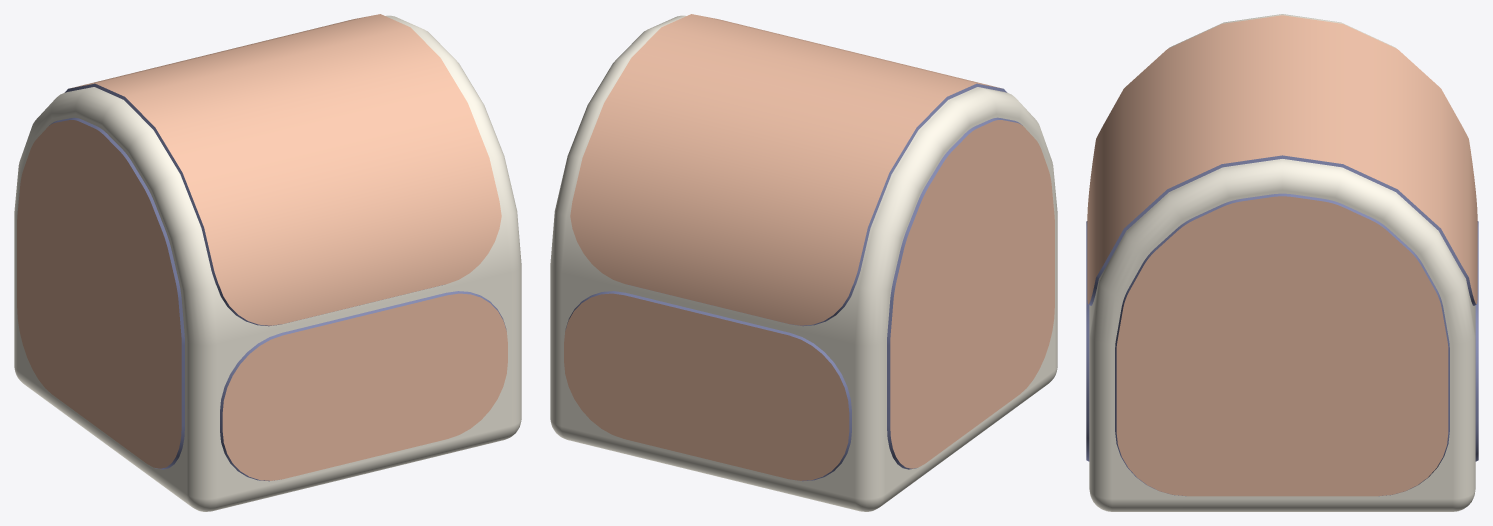
The model's file is R4B_RoundTop.fbx.
The picture shows the model from 3 angles, left to right: view 1: azimuth 30°, elevation 25°; view 2: azimuth 150°, elevation 25°; view 3: azimuth 270°, elevation 25°; orthographic projection.
Visible parts, largest first — view 1: R4B_RoundTop; view 2: R4B_RoundTop; view 3: R4B_RoundTop.
Part boxes in pixels (x1,y1,x2,y2): R4B_RoundTop: [14, 14, 521, 511]; R4B_RoundTop: [550, 14, 1057, 511]; R4B_RoundTop: [1086, 14, 1478, 511].
Bounding box in the file's own units: 0.52 × 0.52 × 0.52.
